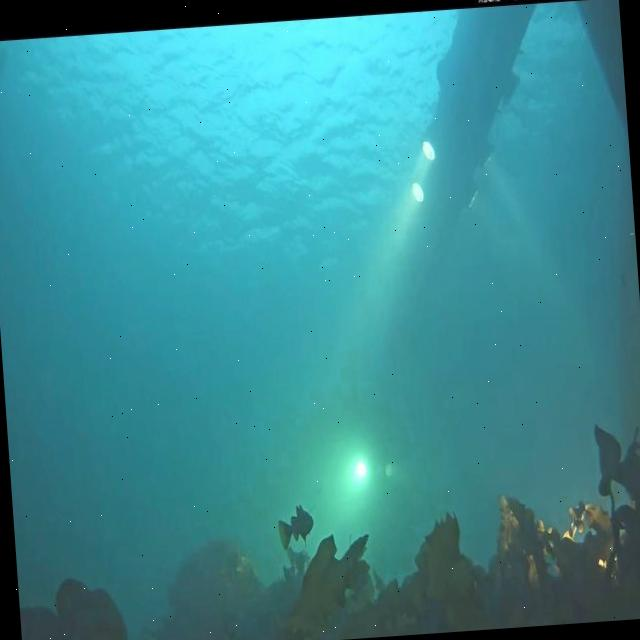fish: (276, 502, 314, 550)
